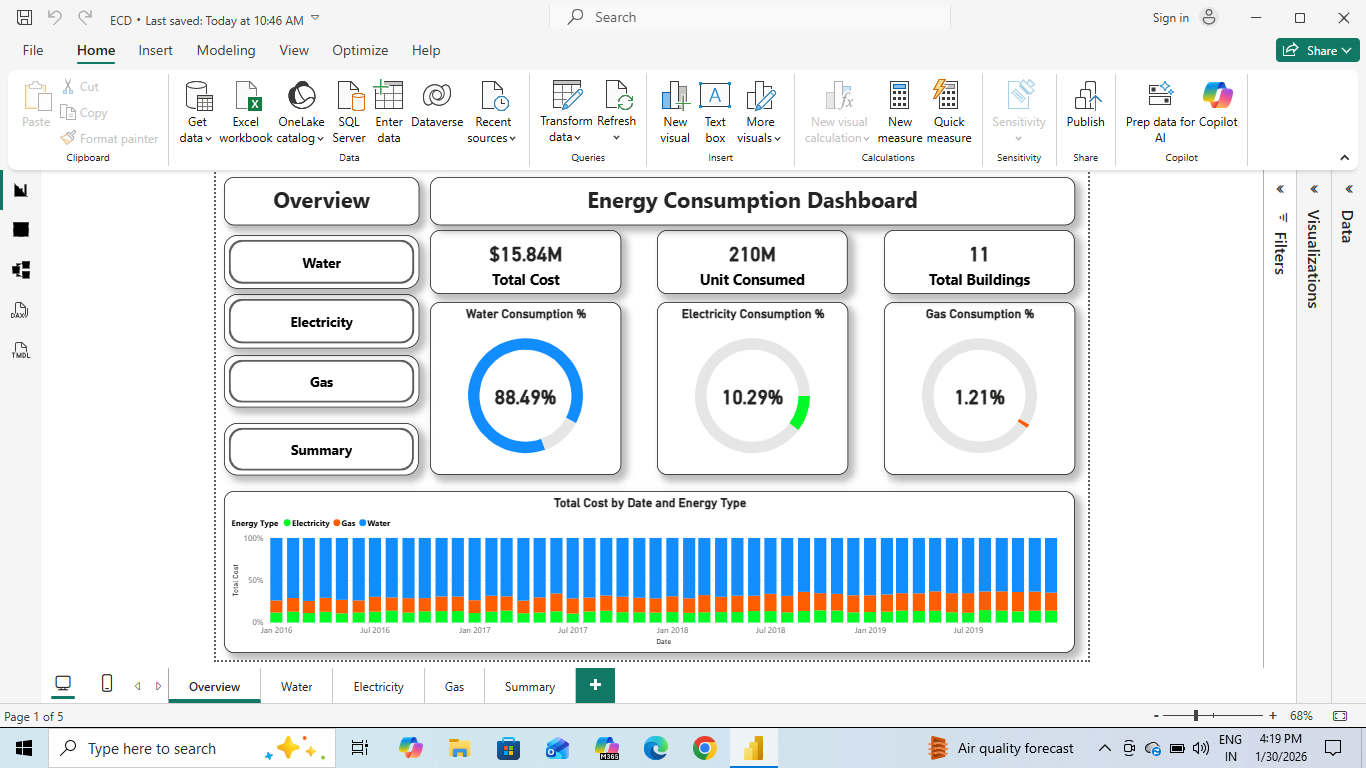

Layout of this report page (visuals, bound fields, positions):
{"tool":"powerbi","page":{"name":"Overview","canvas":[1280,720],"ordinal":0},"visuals":[{"type":"card","fields":{"Values":["Energy Consumptions.Total Cost"]},"box":[314.2,87.7,281.5,94.3],"z":0},{"type":"card","fields":{"Values":["Energy Consumptions.Unit Consumed"]},"box":[648,87.7,280.1,94.3],"z":1000},{"type":"textbox","box":[314.2,10.5,947.8,70.7],"z":2000},{"type":"donutChart","title":"Water Consumption %","fields":{"Y":["Energy Consumptions.Water Unit Consumed","Energy Consumptions.Water Unit Consumed Left"]},"box":[314.4,194,280.7,254.2],"z":3000},{"type":"donutChart","title":"Gas Consumption %","fields":{"Y":["Energy Consumptions.Gas Unit Consumed","Energy Consumptions.Gas Unit Consumed Left"]},"box":[981.6,194,280.7,254.2],"z":4000},{"type":"donutChart","title":"Electricity Consumption %","fields":{"Y":["Energy Consumptions.Electricity Unit Consumed","Energy Consumptions.Electricity Unit Consumed Left"]},"box":[648,194,280.7,254.2],"z":5000},{"type":"card","fields":{"Values":["Energy Consumptions.Total no. of Buildings"]},"box":[981.8,87.7,280.1,94.3],"z":6000},{"type":"card","fields":{"Values":["Energy Consumptions.% of Electricity Consumed"]},"box":[731.8,271.8,113.1,119],"z":7000},{"type":"card","fields":{"Values":["Energy Consumptions.% of Gas Consumed"]},"box":[1065.3,271.8,113.1,119],"z":8000},{"type":"card","fields":{"Values":["Energy Consumptions.% of Water Consumed"]},"box":[398.2,271.8,113.1,119],"z":9000},{"type":"hundredPercentStackedColumnChart","fields":{"Series":["Energy Consumptions.Energy Type"],"Y":["Energy Consumptions.Total Cost"],"Category":["Energy Consumptions.Date"]},"box":[11.8,471.3,1250.2,238.3],"z":10000},{"type":"textbox","box":[11.8,10.5,286.7,70.7],"z":11000},{"type":"actionButton","title":"Water","box":[11.8,95.6,286.7,78.5],"z":12000},{"type":"actionButton","title":"Water","box":[11.8,182,286.7,79.9],"z":13000},{"type":"actionButton","title":"Water","box":[11.8,272.3,286.7,77.2],"z":14000},{"type":"actionButton","title":"Water","box":[12.4,371.6,286.3,77.1],"z":15000}]}

Visuals, with their boxes on the page's 1280x720 design canvas (x1, y1, x2, y2). These are canvas units, not pixel positions in the 1366x768 screenshot, which may show the page scaled, cropped or inside an application window:
card - Energy Consumptions.Total Cost: {"x1": 314, "y1": 88, "x2": 596, "y2": 182}
card - Energy Consumptions.Unit Consumed: {"x1": 648, "y1": 88, "x2": 928, "y2": 182}
textbox: {"x1": 314, "y1": 10, "x2": 1262, "y2": 81}
"Water Consumption %" donutChart: {"x1": 314, "y1": 194, "x2": 595, "y2": 448}
"Gas Consumption %" donutChart: {"x1": 982, "y1": 194, "x2": 1262, "y2": 448}
"Electricity Consumption %" donutChart: {"x1": 648, "y1": 194, "x2": 929, "y2": 448}
card - Energy Consumptions.Total no. of Buildings: {"x1": 982, "y1": 88, "x2": 1262, "y2": 182}
card - Energy Consumptions.% of Electricity Consumed: {"x1": 732, "y1": 272, "x2": 845, "y2": 391}
card - Energy Consumptions.% of Gas Consumed: {"x1": 1065, "y1": 272, "x2": 1178, "y2": 391}
card - Energy Consumptions.% of Water Consumed: {"x1": 398, "y1": 272, "x2": 511, "y2": 391}
hundredPercentStackedColumnChart - Energy Consumptions.Energy Type x Energy Consumptions.Total Cost: {"x1": 12, "y1": 471, "x2": 1262, "y2": 710}
textbox: {"x1": 12, "y1": 10, "x2": 298, "y2": 81}
"Water" actionButton: {"x1": 12, "y1": 96, "x2": 298, "y2": 174}
"Water" actionButton: {"x1": 12, "y1": 182, "x2": 298, "y2": 262}
"Water" actionButton: {"x1": 12, "y1": 272, "x2": 298, "y2": 350}
"Water" actionButton: {"x1": 12, "y1": 372, "x2": 299, "y2": 449}
